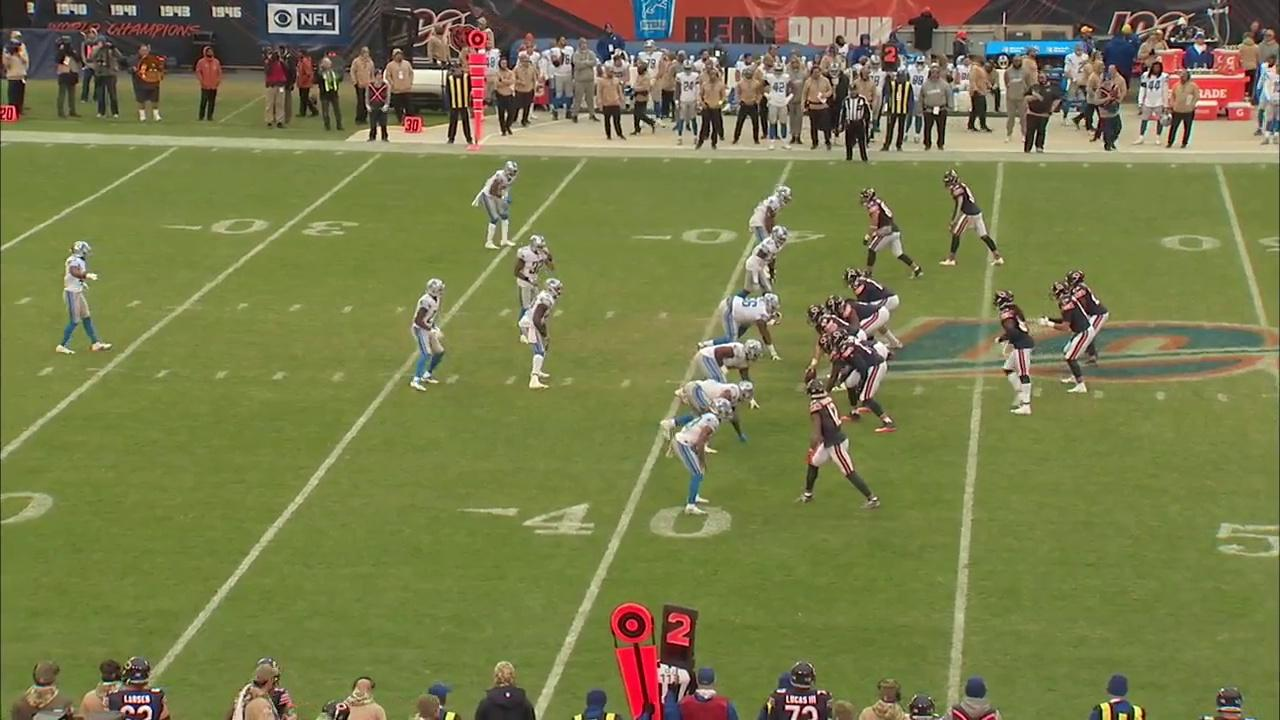player: (791, 379, 886, 514), (49, 237, 118, 352), (829, 327, 898, 435), (1037, 278, 1098, 398), (656, 378, 757, 446), (984, 291, 1038, 418), (855, 184, 926, 278), (941, 170, 1007, 271), (696, 291, 783, 363), (674, 396, 727, 511), (802, 303, 869, 392), (818, 331, 889, 414), (517, 275, 564, 397), (403, 276, 449, 396), (841, 265, 905, 350), (690, 340, 764, 411), (1059, 267, 1109, 372), (514, 234, 559, 348), (468, 154, 517, 256), (824, 293, 894, 361), (731, 228, 790, 298), (746, 177, 795, 233)
ref: (643, 632, 705, 720), (840, 83, 873, 162)
